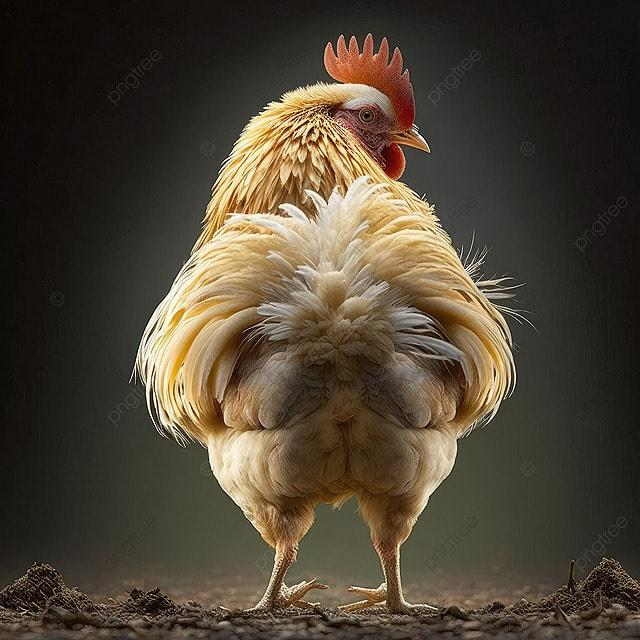Chicken: (130, 32, 516, 615)
